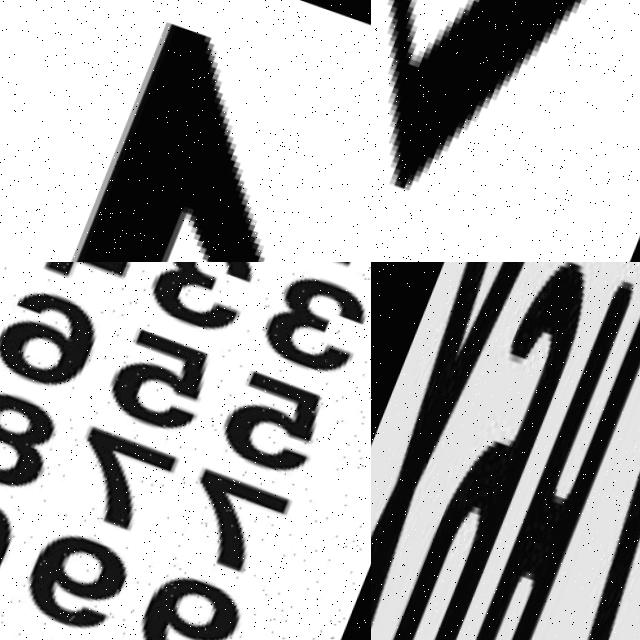0: (0, 473, 43, 598)
3: (261, 262, 371, 379), (145, 262, 266, 334)
4: (27, 262, 160, 294)
5: (103, 317, 236, 442), (215, 358, 347, 482)
6: (371, 262, 608, 640), (0, 272, 120, 397)
7: (174, 454, 313, 580), (61, 417, 198, 540)
8: (0, 376, 77, 498)
9: (23, 517, 154, 637), (140, 557, 272, 640)
H: (427, 266, 640, 640)
W: (371, 0, 640, 248)
X: (371, 262, 536, 640)
Z: (506, 281, 640, 640)
